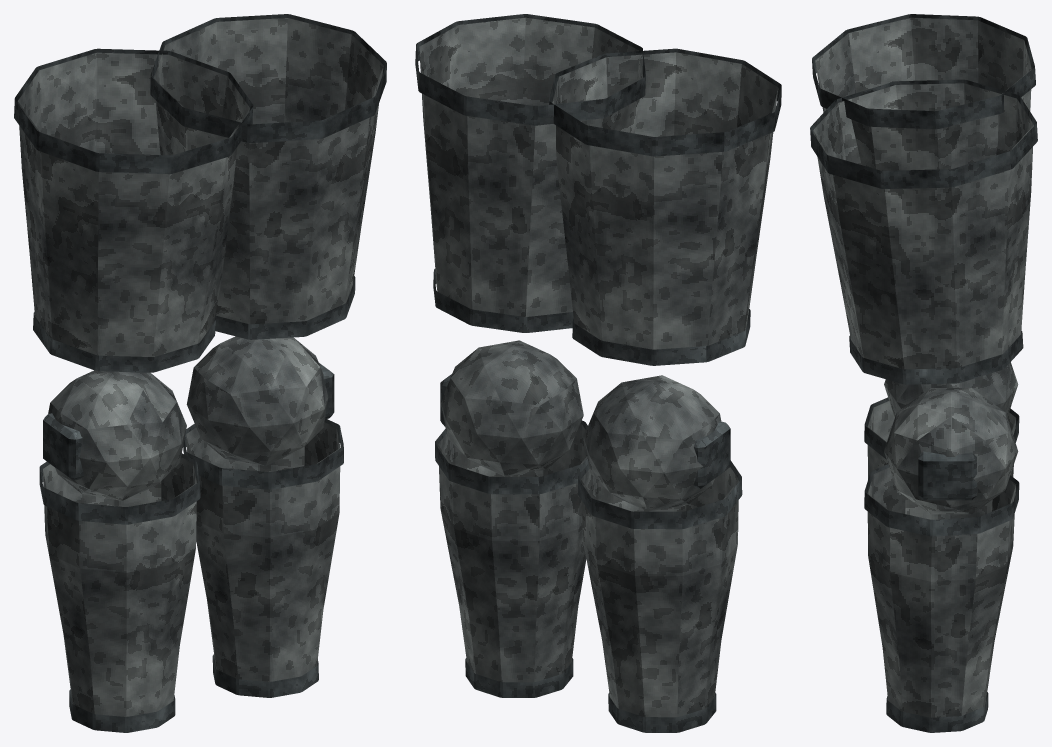
File: leggings.glb
3 renders of one model, left to right at view 1: azimuth 30°, elevation 25°; view 2: azimuth 150°, elevation 25°; view 3: azimuth 270°, elevation 25°, orthographic. The views are drawn at different scales.
Visible parts, largest first — view 1: cuisse_-1, cuisse_1, greave_-1, greave_1, poleyn_1, poleyn_-1, cuisse_top_-1, cuisse_top_1, greave_top_-1, cuisse_bot_-1, greave_top_1, cuisse_bot_1 (+3 smaller); view 2: cuisse_-1, cuisse_1, greave_-1, greave_1, poleyn_1, poleyn_-1, cuisse_top_-1, cuisse_top_1, greave_top_-1, cuisse_bot_-1, greave_top_1, cuisse_bot_1 (+3 smaller); view 3: cuisse_1, greave_1, cuisse_-1, poleyn_1, cuisse_top_1, cuisse_top_-1, greave_top_1, cuisse_bot_1, poleyn_fin_1, poleyn_-1, greave_bot_1, greave_-1 (+1 smaller).
Boxes of the visible parts, x1=… form: cuisse_-1: x1=17, y1=52, x2=249, y2=356; cuisse_1: x1=153, y1=18, x2=383, y2=324; greave_-1: x1=43, y1=457, x2=196, y2=716; greave_1: x1=186, y1=422, x2=340, y2=681; poleyn_1: x1=186, y1=336, x2=328, y2=465; poleyn_-1: x1=48, y1=370, x2=186, y2=500; cuisse_top_-1: x1=14, y1=48, x2=253, y2=174; cuisse_top_1: x1=150, y1=14, x2=386, y2=142; greave_top_-1: x1=39, y1=453, x2=200, y2=524; cuisse_bot_-1: x1=33, y1=312, x2=215, y2=372; greave_top_1: x1=183, y1=419, x2=343, y2=489; cuisse_bot_1: x1=215, y1=276, x2=355, y2=339; cuisse_-1: x1=552, y1=52, x2=778, y2=349; cuisse_1: x1=419, y1=17, x2=642, y2=316; greave_-1: x1=581, y1=467, x2=738, y2=717; greave_1: x1=438, y1=424, x2=587, y2=682; poleyn_1: x1=441, y1=340, x2=583, y2=476; poleyn_-1: x1=583, y1=375, x2=721, y2=511; cuisse_top_-1: x1=549, y1=48, x2=781, y2=156; cuisse_top_1: x1=415, y1=14, x2=645, y2=125; greave_top_-1: x1=578, y1=460, x2=742, y2=529; cuisse_bot_-1: x1=572, y1=309, x2=750, y2=365; greave_top_1: x1=435, y1=420, x2=588, y2=494; cuisse_bot_1: x1=433, y1=269, x2=573, y2=332; cuisse_1: x1=813, y1=83, x2=1033, y2=369; greave_1: x1=867, y1=468, x2=1015, y2=717; cuisse_-1: x1=815, y1=17, x2=1031, y2=170; poleyn_1: x1=884, y1=388, x2=1018, y2=514; cuisse_top_1: x1=810, y1=79, x2=1037, y2=188; cuisse_top_-1: x1=812, y1=14, x2=1035, y2=129; greave_top_1: x1=864, y1=464, x2=1019, y2=536; cuisse_bot_1: x1=849, y1=330, x2=1023, y2=384; poleyn_fin_1: x1=918, y1=451, x2=976, y2=500; poleyn_-1: x1=884, y1=362, x2=1018, y2=417; greave_bot_1: x1=886, y1=692, x2=988, y2=732; greave_-1: x1=867, y1=401, x2=1015, y2=479.
Size of the model in its own units: 0.4434 by 0.7764 by 0.2714.
2 materials, 2 textured.
